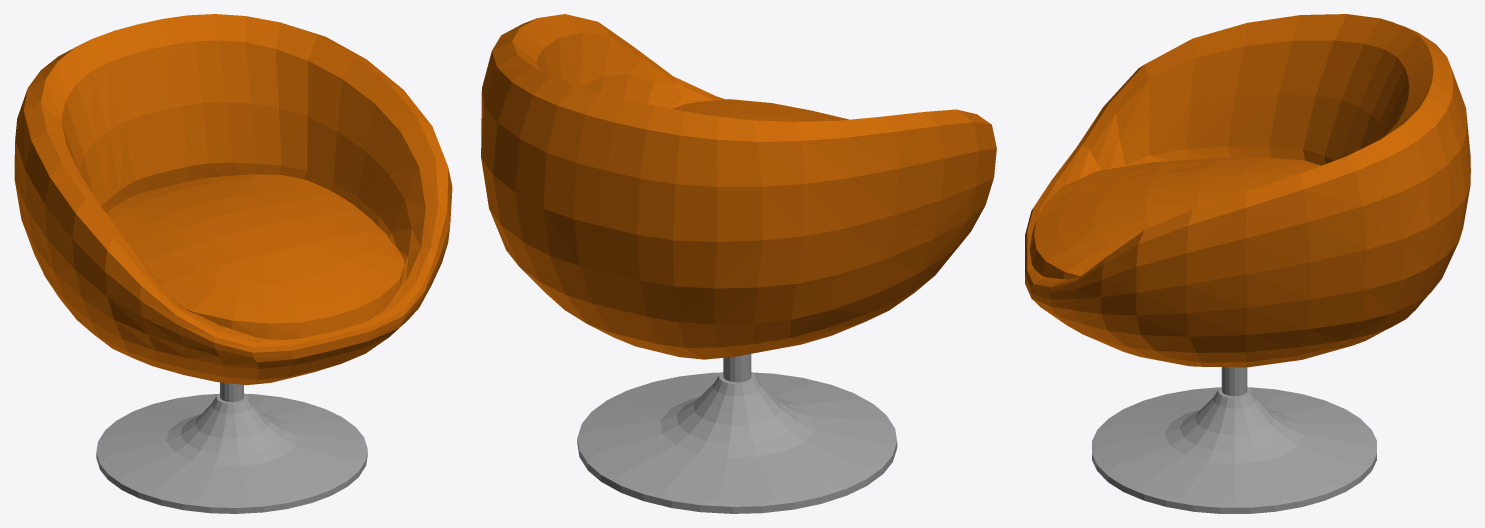
Rendered from orangeChair.glb.
3 views of the same model, side by side, from view 1: azimuth 30°, elevation 25°; view 2: azimuth 150°, elevation 25°; view 3: azimuth 270°, elevation 25° (orthographic). The views are drawn at different scales.
Visible parts, largest first — view 1: Node; view 2: Node; view 3: Node.
Boxes of the visible parts, x1,y1,x2,y2 form: Node: [14, 14, 452, 513]; Node: [481, 14, 996, 513]; Node: [1025, 14, 1470, 513].
Size of the model in its own units: 34.04 by 32.38 by 34.09.
